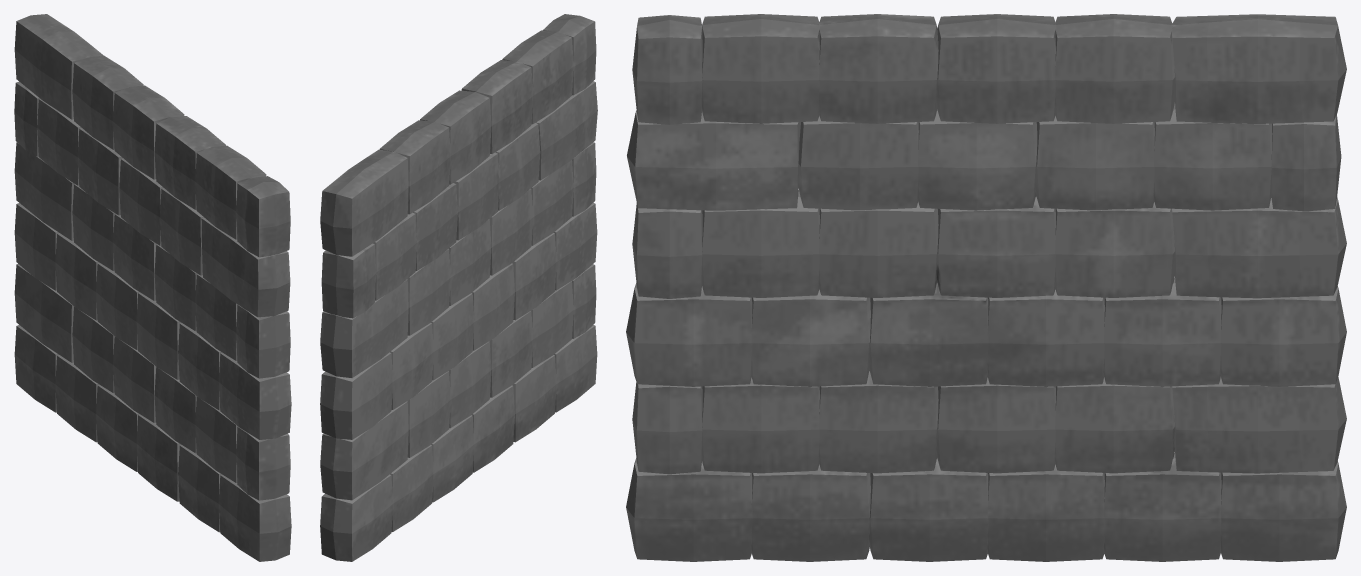
Rendered from Wall_MazeEscape.glb.
The picture shows the model from 3 angles, left to right: view 1: azimuth 30°, elevation 25°; view 2: azimuth 150°, elevation 25°; view 3: azimuth 270°, elevation 25°; orthographic projection. The views are drawn at different scales.
Parts seen in each view (by area): view 1: Cube.046; view 2: Cube.046; view 3: Cube.046.
Part boxes in pixels (x1=…): Cube.046: x1=14, y1=14, x2=291, y2=561; Cube.046: x1=320, y1=14, x2=597, y2=561; Cube.046: x1=626, y1=14, x2=1346, y2=561.
Bounding box in the file's own units: 0.916 × 8.79 × 10.67.
1 material, 1 textured.
